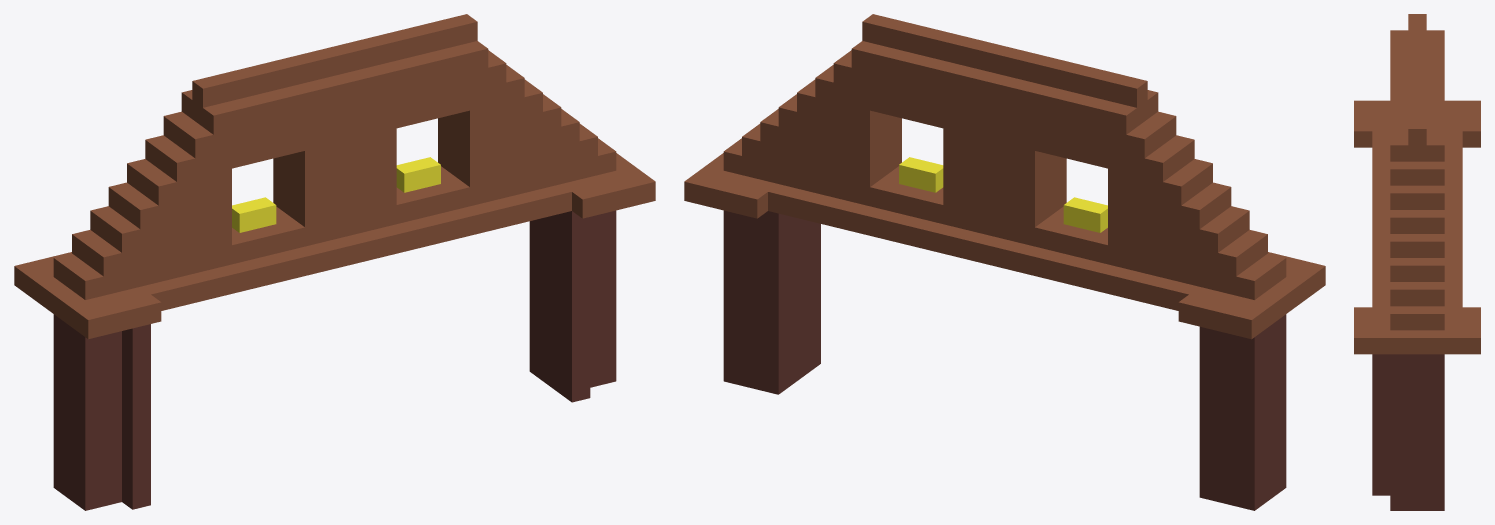
File: gate_frame.obj
3 renders of one model, left to right at view 1: azimuth 30°, elevation 25°; view 2: azimuth 150°, elevation 25°; view 3: azimuth 270°, elevation 25°, orthographic. The views are drawn at different scales.
Bounding box in the file's own units: 3.1 × 2 × 0.7.
1 material, 1 textured.
